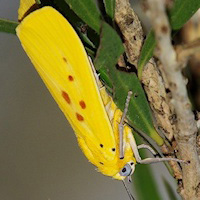Agape chloropyga: (11, 1, 190, 198)
moth: (10, 1, 189, 200)
